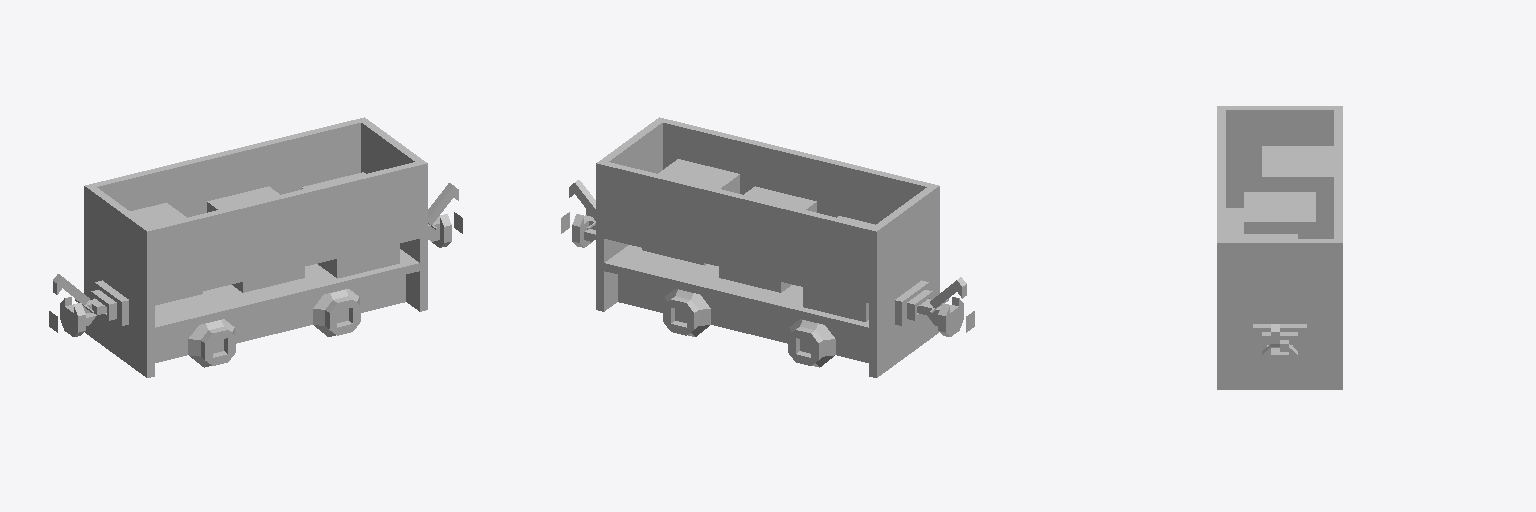
The model's file is kitsune_pixie_flat_wagon.obj.
3 renders of one model, left to right at view 1: azimuth 30°, elevation 25°; view 2: azimuth 150°, elevation 25°; view 3: azimuth 270°, elevation 25°, orthographic.
Parts seen in each view (by area): view 1: FRAME.003_Cube.004, FRAME_Cube.015, COUPLER_ENGAGED_FRONT_1_TOGGLE_LABEL_Uncouple_Cube.003, FRAME_WHEEL_2_Cube.007, FRAME_WHEEL_1_Cube.007, CARGO_FILL_50_Cube.001, CARGO_FILL_100_Cube.002, CARGO_FILL_1_Cube, COUPLER_ENGAGED_REAR_2_TOGGLE_LABEL_Uncouple_Cube.003, COUPLED_REAR_2_Cube.008; view 2: FRAME.003_Cube.004, FRAME_Cube.015, COUPLER_ENGAGED_FRONT_1_TOGGLE_LABEL_Uncouple_Cube.003, FRAME_WHEEL_2_Cube.007, FRAME_WHEEL_1_Cube.007, CARGO_FILL_50_Cube.001, CARGO_FILL_100_Cube.002, CARGO_FILL_1_Cube, COUPLER_ENGAGED_REAR_2_TOGGLE_LABEL_Uncouple_Cube.003; view 3: FRAME.003_Cube.004, FRAME_Cube.015, CARGO_FILL_1_Cube, CARGO_FILL_100_Cube.002, COUPLER_ENGAGED_REAR_2_TOGGLE_LABEL_Uncouple_Cube.003.
Boxes of the visible parts, box(x1,y1,x2,y2) form: FRAME.003_Cube.004: box(84, 117, 427, 304); FRAME_Cube.015: box(84, 237, 427, 377); COUPLER_ENGAGED_FRONT_1_TOGGLE_LABEL_Uncouple_Cube.003: box(49, 280, 128, 336); FRAME_WHEEL_2_Cube.007: box(313, 289, 360, 336); FRAME_WHEEL_1_Cube.007: box(188, 319, 235, 367); CARGO_FILL_50_Cube.001: box(302, 172, 399, 278); CARGO_FILL_100_Cube.002: box(207, 186, 304, 292); CARGO_FILL_1_Cube: box(130, 203, 202, 305); COUPLER_ENGAGED_REAR_2_TOGGLE_LABEL_Uncouple_Cube.003: box(428, 212, 462, 247); COUPLED_REAR_2_Cube.008: box(428, 183, 458, 224); FRAME.003_Cube.004: box(596, 117, 939, 304); FRAME_Cube.015: box(596, 237, 939, 377); COUPLER_ENGAGED_FRONT_1_TOGGLE_LABEL_Uncouple_Cube.003: box(895, 280, 974, 336); FRAME_WHEEL_2_Cube.007: box(663, 289, 710, 336); FRAME_WHEEL_1_Cube.007: box(788, 319, 835, 367); CARGO_FILL_50_Cube.001: box(642, 159, 739, 265); CARGO_FILL_100_Cube.002: box(719, 186, 816, 292); CARGO_FILL_1_Cube: box(803, 216, 874, 321); COUPLER_ENGAGED_REAR_2_TOGGLE_LABEL_Uncouple_Cube.003: box(561, 209, 595, 247); FRAME.003_Cube.004: box(1217, 106, 1342, 315); FRAME_Cube.015: box(1217, 183, 1342, 389); CARGO_FILL_1_Cube: box(1262, 146, 1333, 238); CARGO_FILL_100_Cube.002: box(1244, 192, 1315, 238); COUPLER_ENGAGED_REAR_2_TOGGLE_LABEL_Uncouple_Cube.003: box(1253, 324, 1306, 379).
Size of the model in its own units: 3.25 by 1.25 by 0.875.